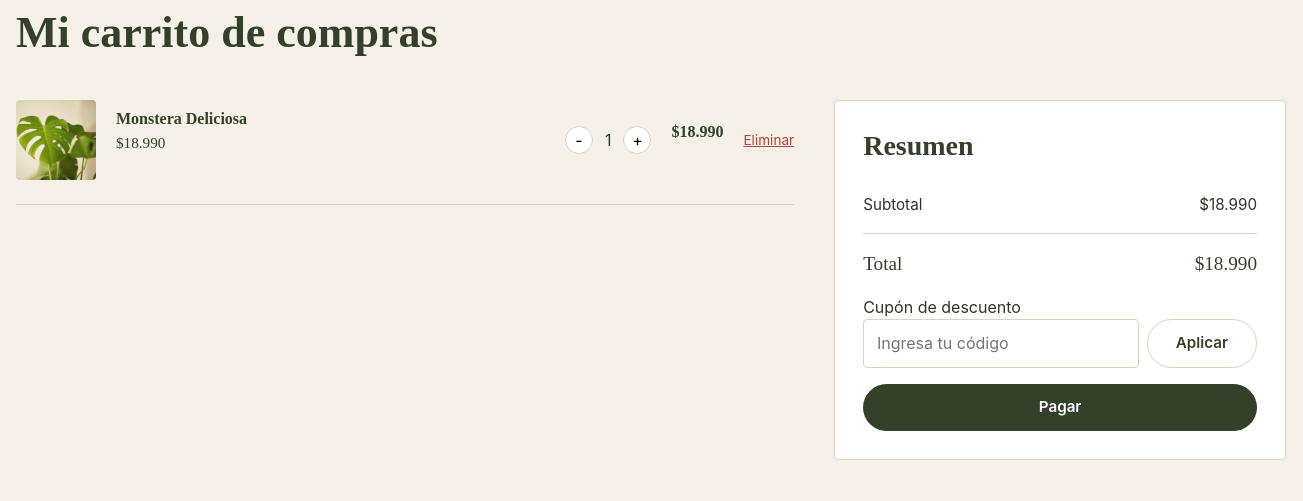
Carrito › pide ingresar un código si el campo está vacío
The width and height of the screenshot is (1303, 501).
Click the button "Aplicar".
click(1202, 343)  # box [1147, 319, 1257, 368]
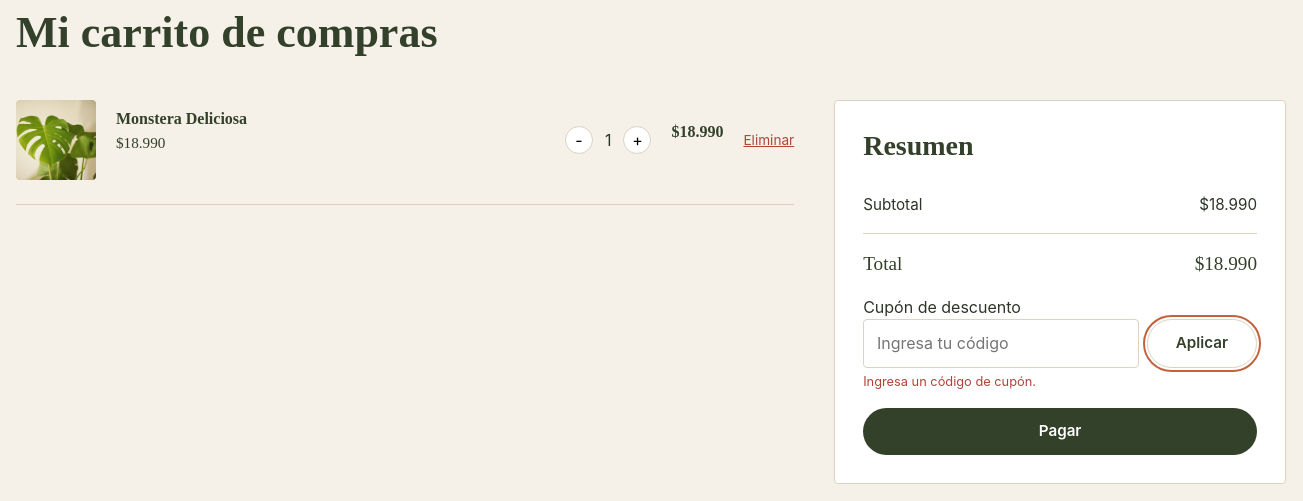
expect the message reads "Ingresa un código de cupón.": met, box [863, 374, 1036, 389]
